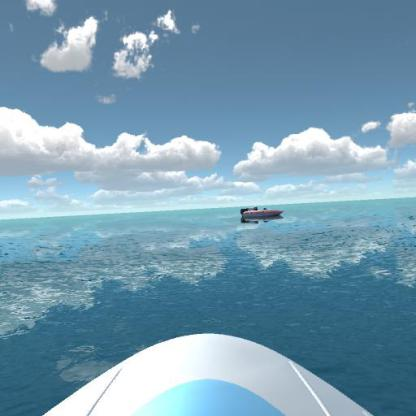usv3: (238, 204, 285, 226)
